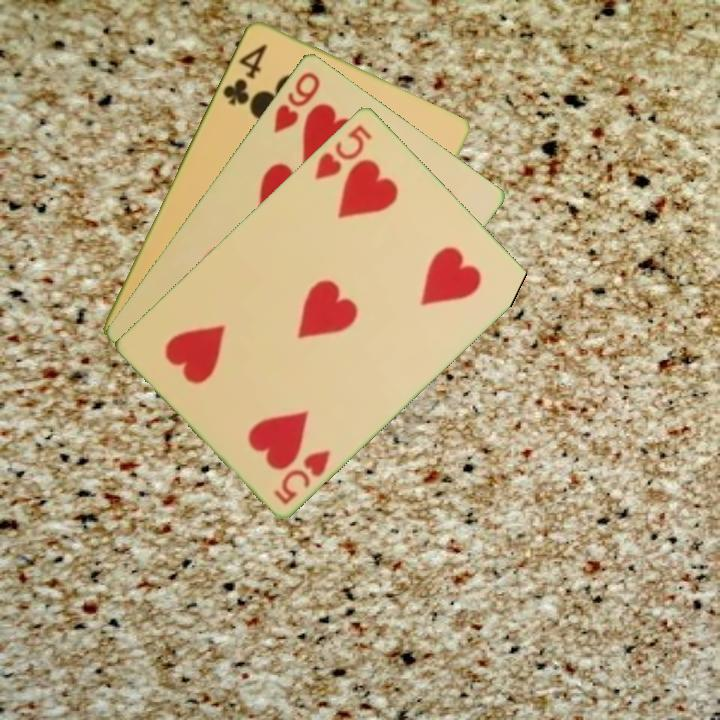4c: (219, 40, 270, 109)
5h: (311, 120, 375, 182), (270, 446, 334, 507)
9h: (270, 67, 323, 136)
